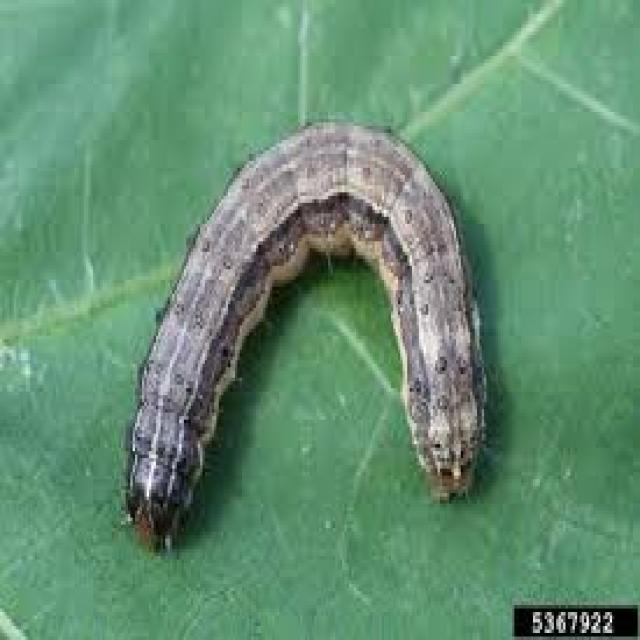Army Worm: (113, 114, 500, 568)
